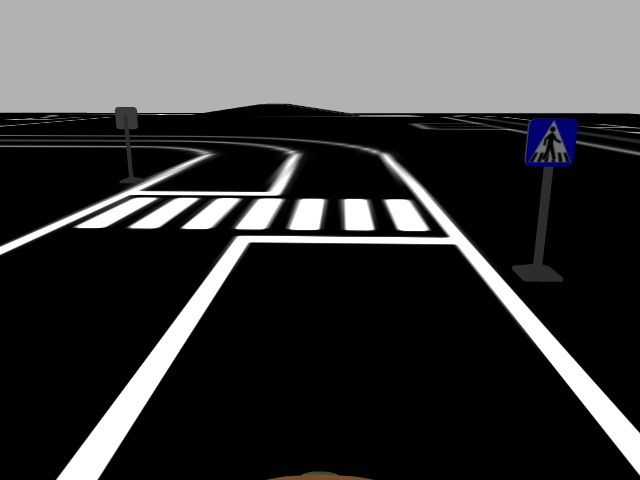crosswalk: (524, 115, 577, 170)
